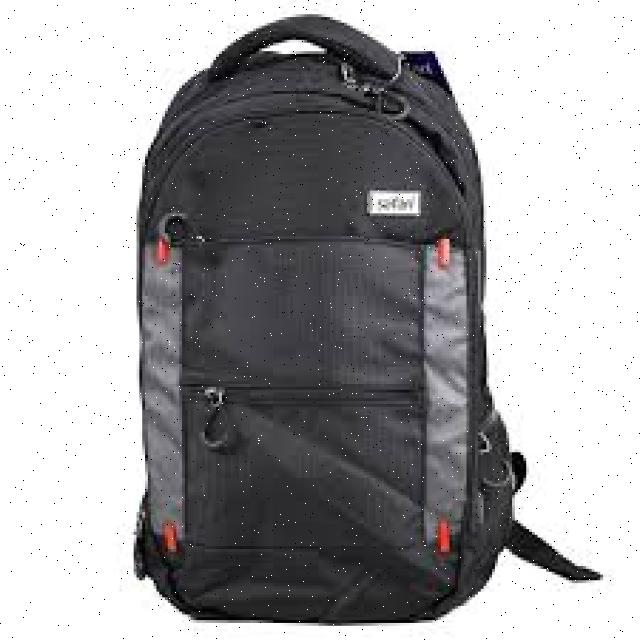backpack: (131, 11, 603, 623)
